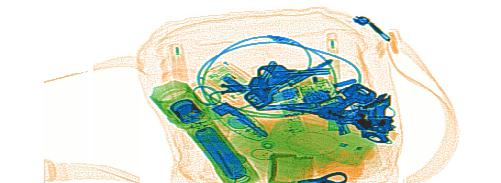battery: (195, 126, 248, 179)
